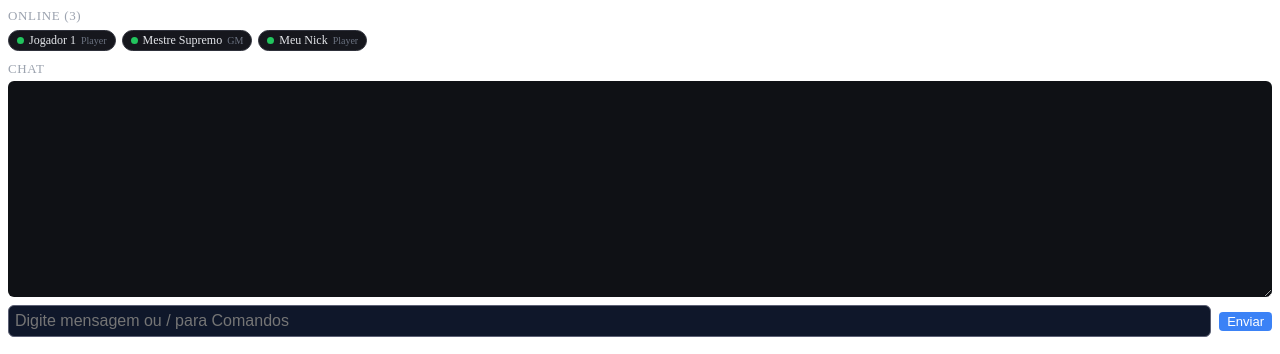
Test case: ChatPanel autocomplete › sugere jogadores e mestres no whisper excluindo a si mesmo
Step 1. Type "/w " into the field with placeholder "Digite mensagem ou / para Comandos" → (610, 321), box [8,305,1211,337]
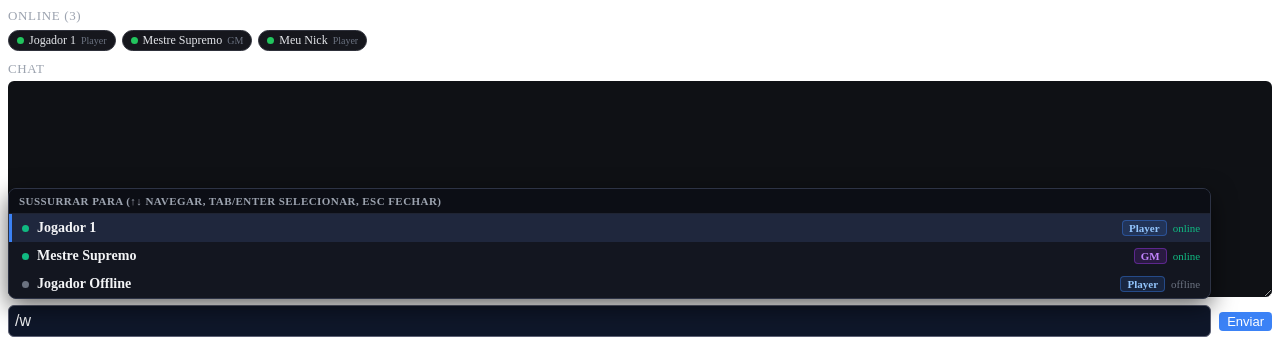
Expected: the text "Mestre Supremo" is shown, [37,248,136,264]
Expected: the text "Jogador 1" is shown, [37,220,96,236]
Expected: the text "Jogador Offline" is shown, [37,276,131,292]
